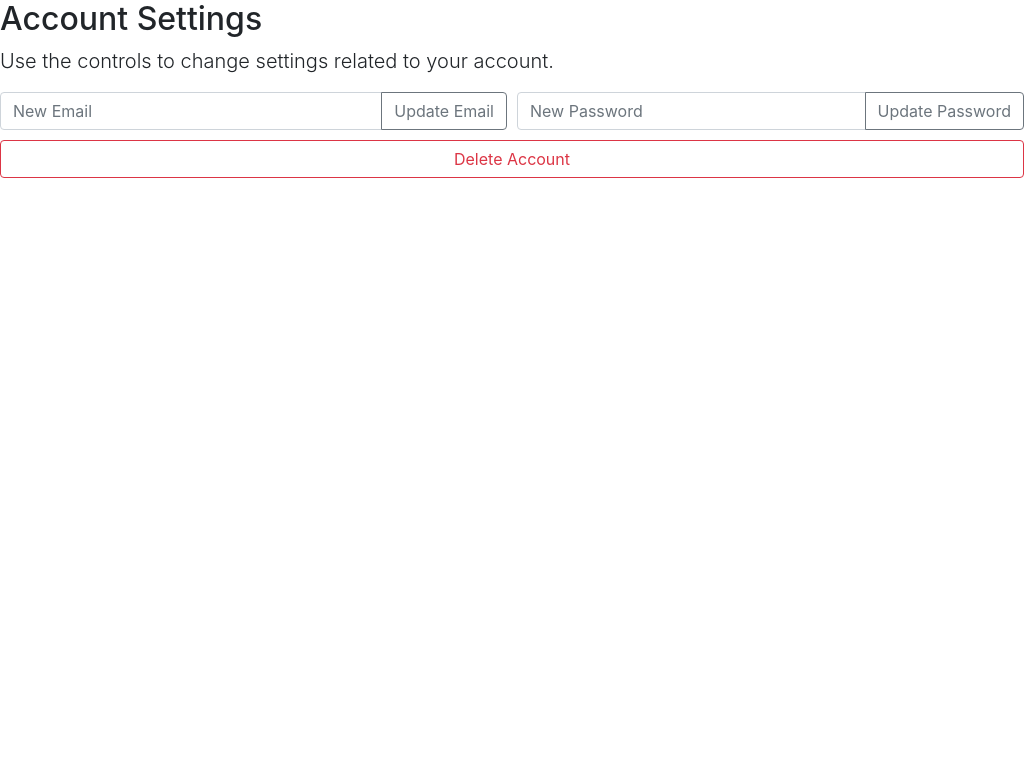
Scenario: updates password
In the password field with placeholder "New Password": (691, 111) x1=517 y1=92 x2=866 y2=130, type "password2"
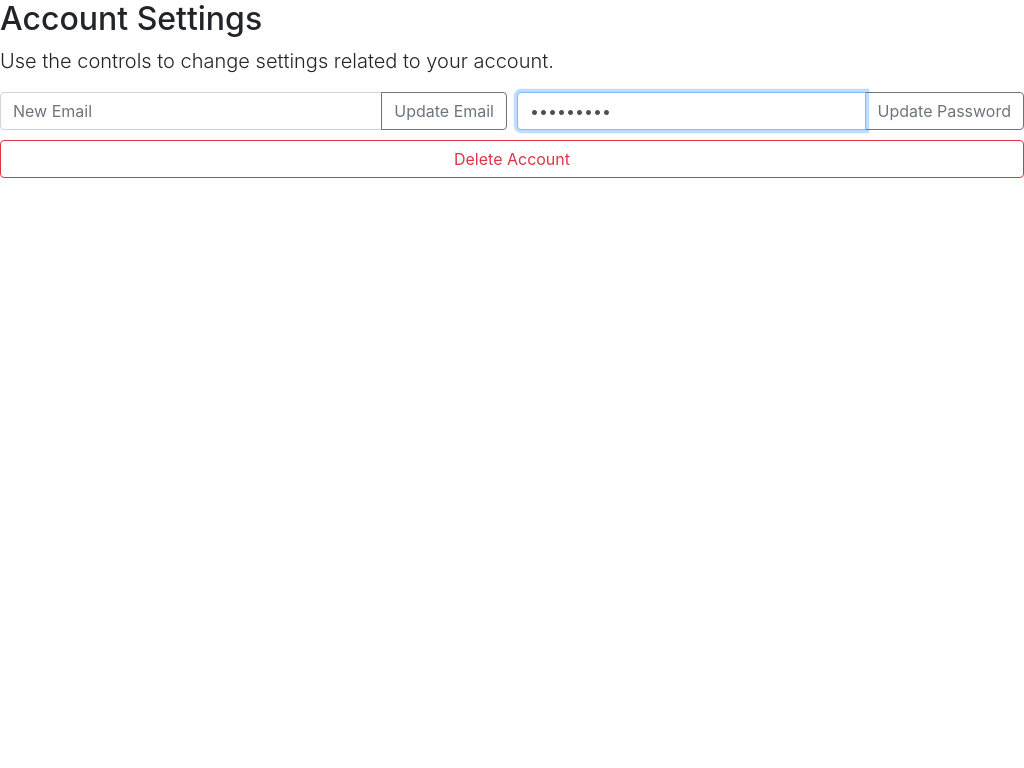
Click the button "Update Password": (944, 111) x1=865 y1=92 x2=1023 y2=130
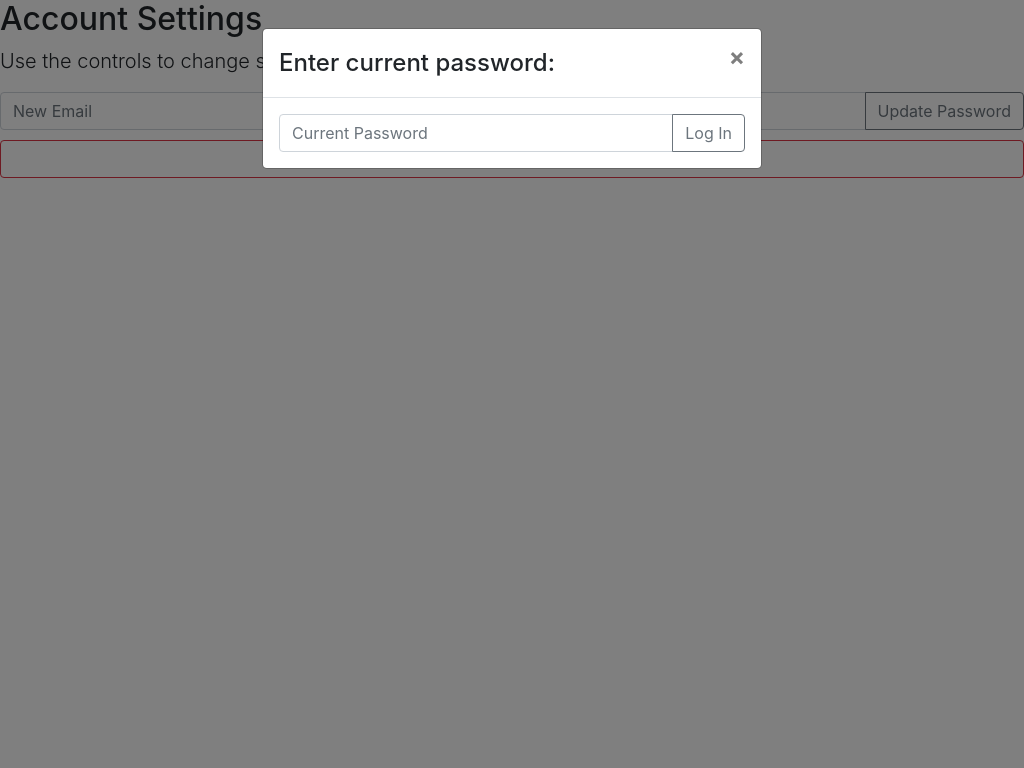
In the password field with placeholder "Current Password": (476, 133) x1=279 y1=114 x2=673 y2=152, type "password"
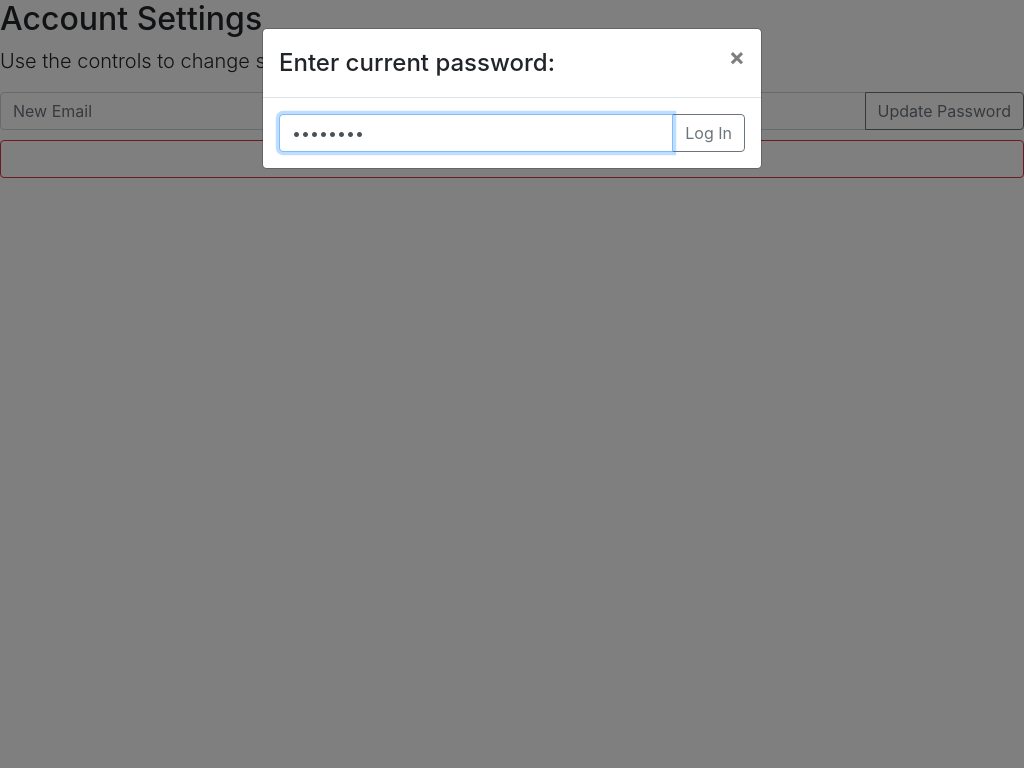
Click the button "Log In": (709, 133) x1=672 y1=114 x2=745 y2=152
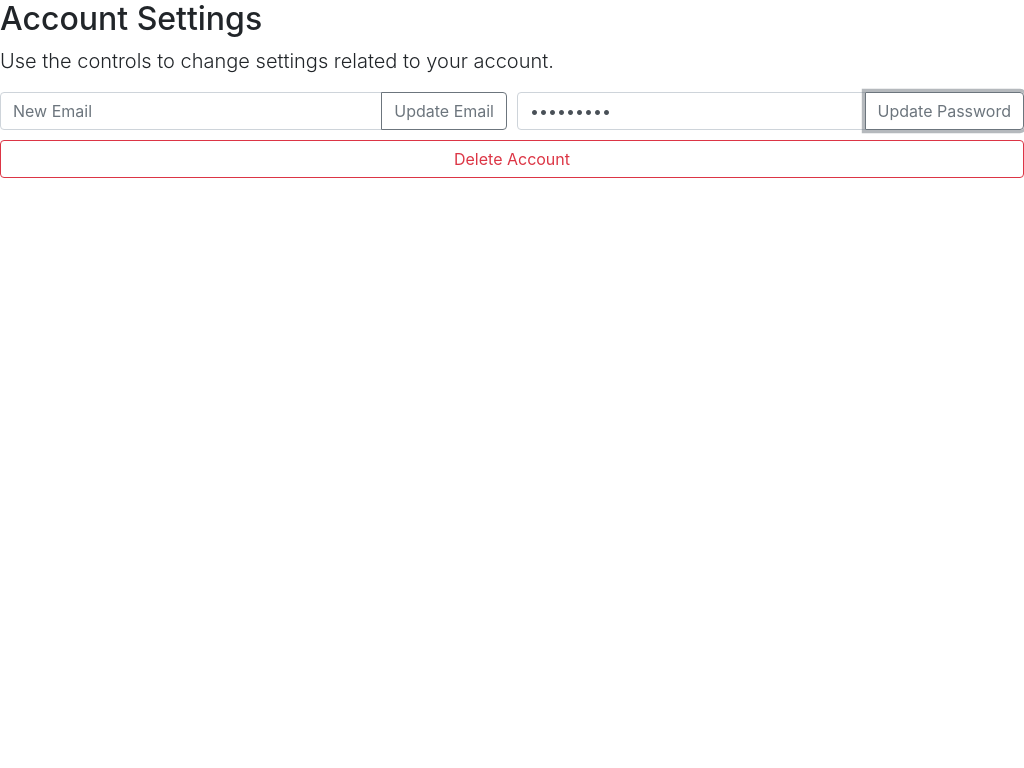
Expected: the text with placeholder "current password" is gone
